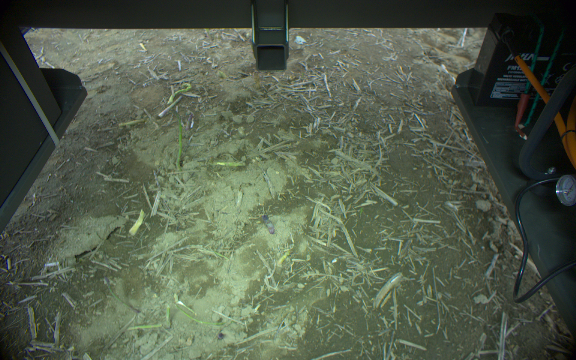aspa: (174, 113, 187, 169), (165, 79, 191, 101), (259, 213, 276, 236)
